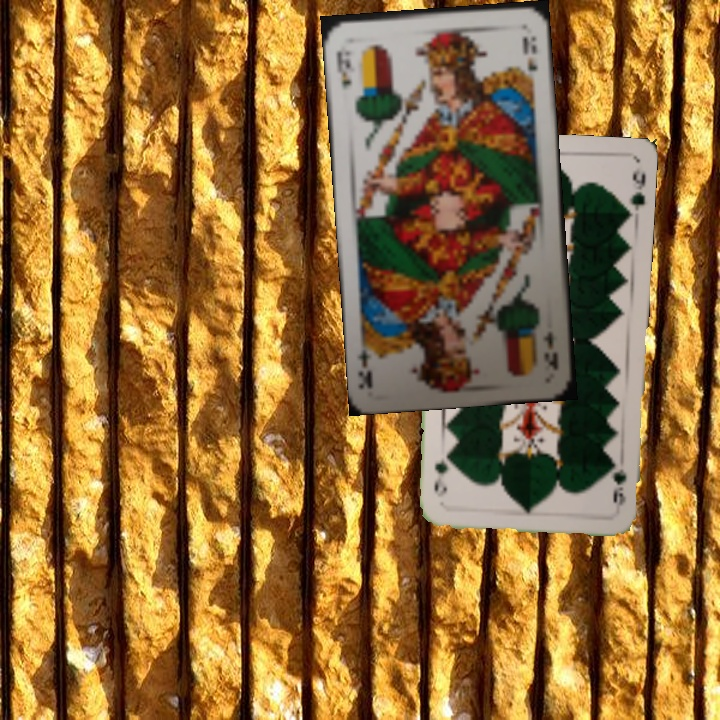EK: (331, 47, 354, 92), (539, 327, 561, 372)
G9: (605, 452, 629, 508)
